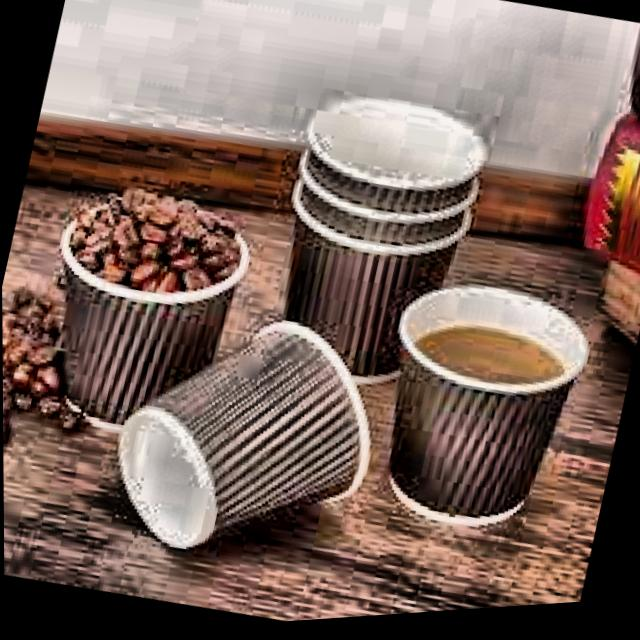Cup: (94, 284, 398, 612), (6, 152, 279, 469), (245, 78, 498, 413), (358, 258, 608, 565)
